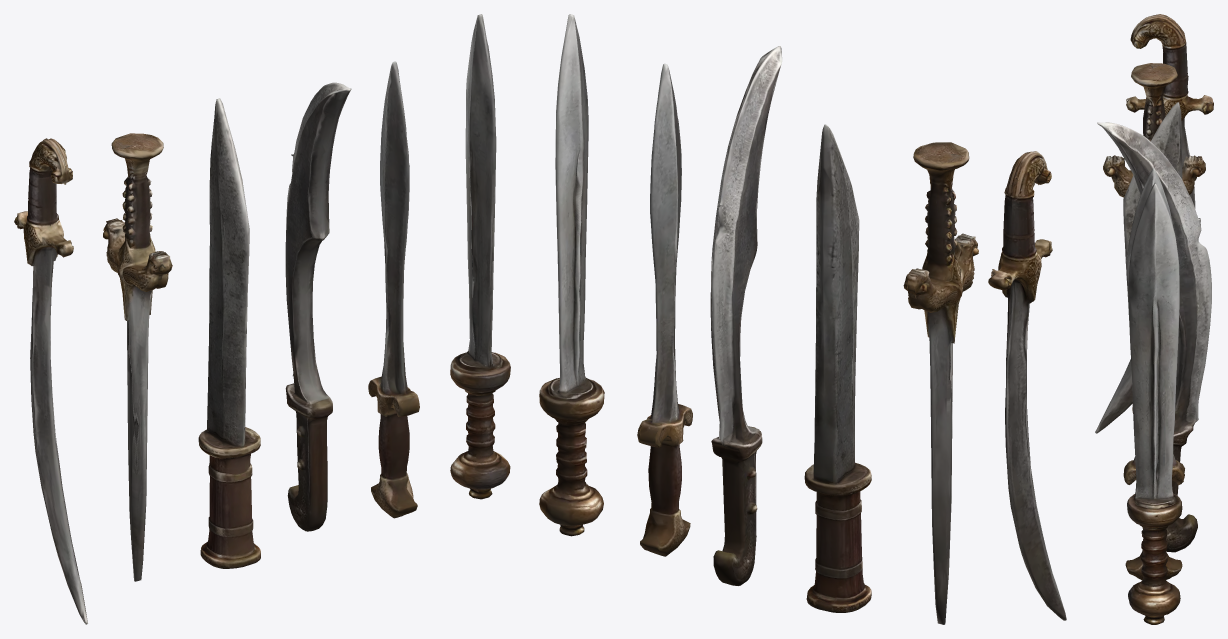
Rendered from weapons_swords_short.glb.
3 renders of one model, left to right at view 1: azimuth 30°, elevation 25°; view 2: azimuth 150°, elevation 25°; view 3: azimuth 270°, elevation 25°, orthographic. The views are drawn at different scales.
Parts seen in each view (by area): view 1: sword_short_seax, sword_short_kopis, sword_short_gladius, sword_short_akinakes, sword_short_xiphos, sword_short_shamshir; view 2: sword_short_seax, sword_short_kopis, sword_short_gladius, sword_short_akinakes, sword_short_xiphos, sword_short_shamshir; view 3: sword_short_gladius, sword_short_kopis, sword_short_shamshir, sword_short_akinakes, sword_short_seax, sword_short_xiphos.
Boxes of the visible parts, x1,y1,x2,y2 form: sword_short_seax: (198,98,260,568); sword_short_kopis: (285,82,351,531); sword_short_gladius: (450,14,510,499); sword_short_akinakes: (103,133,172,581); sword_short_xiphos: (368,61,419,518); sword_short_shamshir: (14,138,87,624); sword_short_seax: (804,124,871,612); sword_short_kopis: (710,46,782,585); sword_short_gladius: (539,14,604,536); sword_short_akinakes: (903,142,978,624); sword_short_xiphos: (637,63,692,556); sword_short_shamshir: (988,151,1066,620); sword_short_gladius: (1127,183,1181,624); sword_short_kopis: (1097,122,1211,552); sword_short_shamshir: (1095,14,1213,433); sword_short_akinakes: (1103,63,1205,197); sword_short_seax: (1123,102,1182,517); sword_short_xiphos: (1123,168,1184,580).
Bounding box in the file's own units: 0.6203 × 0.6111 × 0.1498.
1 material, 1 textured.
